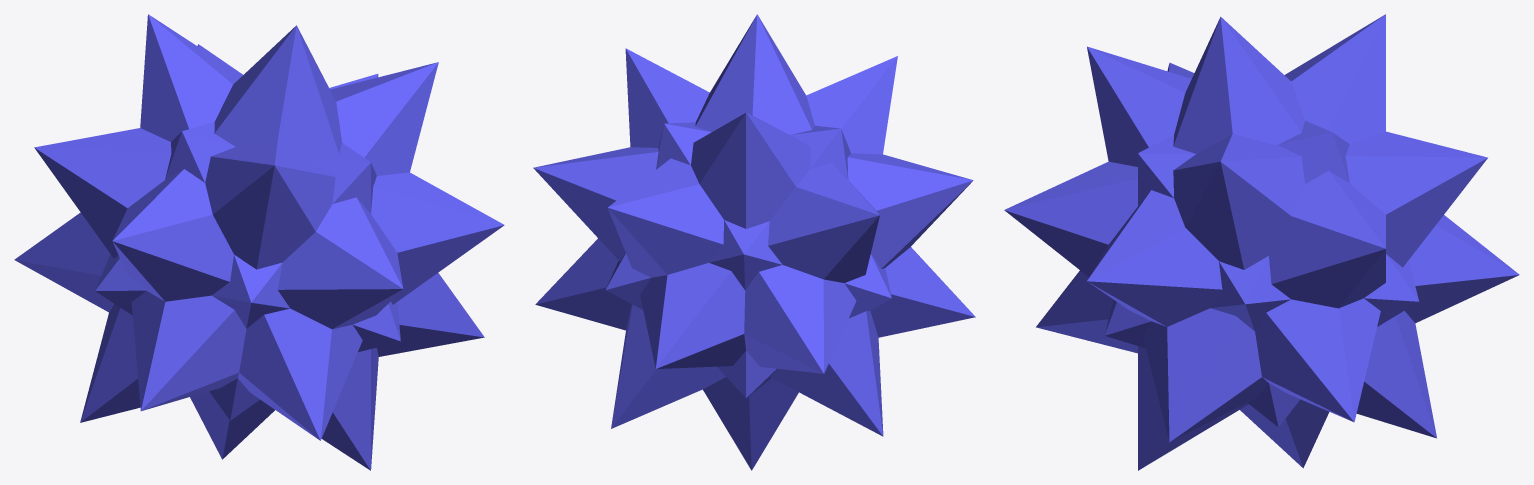
The model's file is great_icosacronic_hexecontahedron.obj.
The picture shows the model from 3 angles, left to right: view 1: azimuth 30°, elevation 25°; view 2: azimuth 150°, elevation 25°; view 3: azimuth 270°, elevation 25°; orthographic projection. The views are drawn at different scales.
Visible parts, largest first — view 1: Shape_IndexedFaceSet_Shape_IndexedFaceSet.013; view 2: Shape_IndexedFaceSet_Shape_IndexedFaceSet.013; view 3: Shape_IndexedFaceSet_Shape_IndexedFaceSet.013.
Boxes of the visible parts, <box> form: Shape_IndexedFaceSet_Shape_IndexedFaceSet.013: <box>14,14,504,470</box>; Shape_IndexedFaceSet_Shape_IndexedFaceSet.013: <box>533,14,975,470</box>; Shape_IndexedFaceSet_Shape_IndexedFaceSet.013: <box>1004,14,1519,470</box>.
Bounding box in the file's own units: 3.3 × 3.75 × 3.73.
